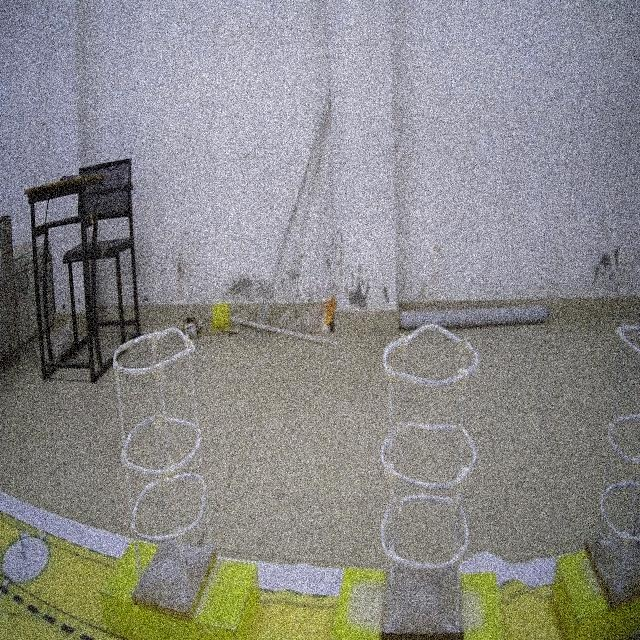silo: (112, 331, 216, 619), (383, 324, 471, 638), (588, 311, 640, 593)
